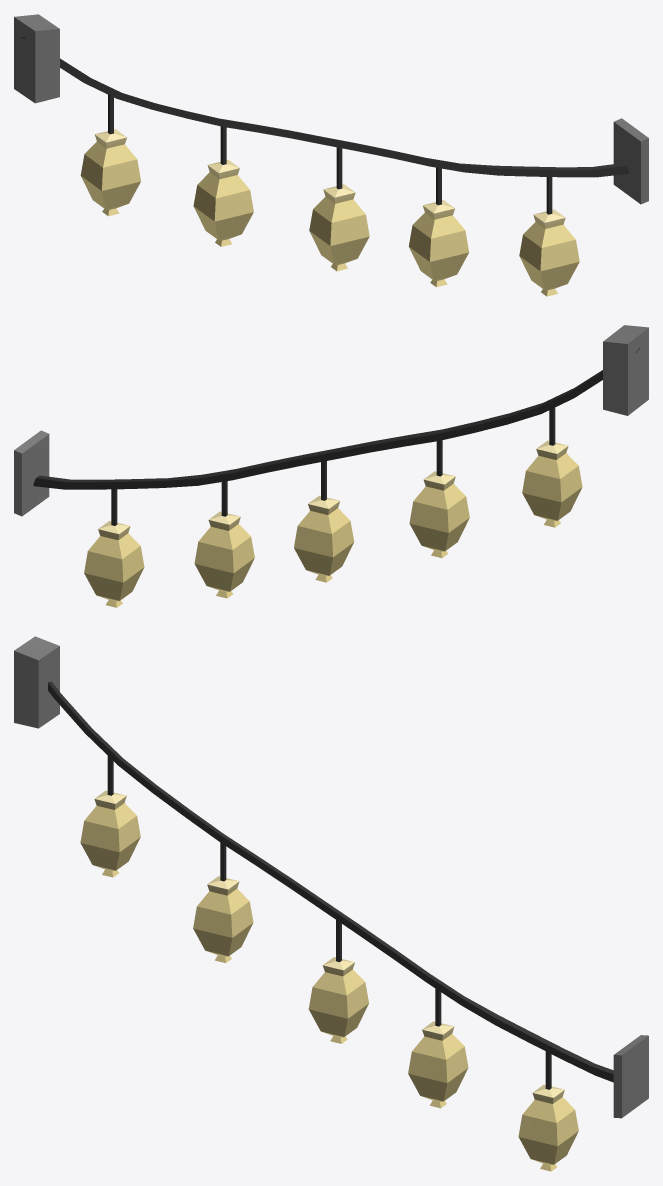
File: B02_cable_lampe_2.fbx
3 views of the same model, one above another, from view 1: azimuth 30°, elevation 25°; view 2: azimuth 150°, elevation 25°; view 3: azimuth 330°, elevation 25° (orthographic).
Visible parts, largest first — view 1: B02_cable_lampe_2; view 2: B02_cable_lampe_2; view 3: B02_cable_lampe_2.
Boxes of the visible parts, x1,y1,x2,y2 form: B02_cable_lampe_2: (14, 14, 648, 296); B02_cable_lampe_2: (14, 325, 648, 607); B02_cable_lampe_2: (14, 636, 648, 1171).
Bounding box in the file's own units: 947 × 588 × 72.86.
